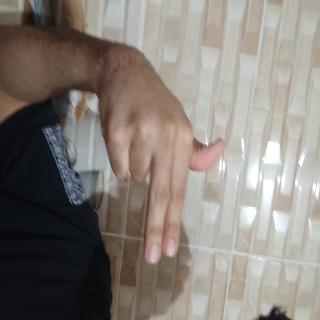GHAYN: (32, 121, 202, 297)
